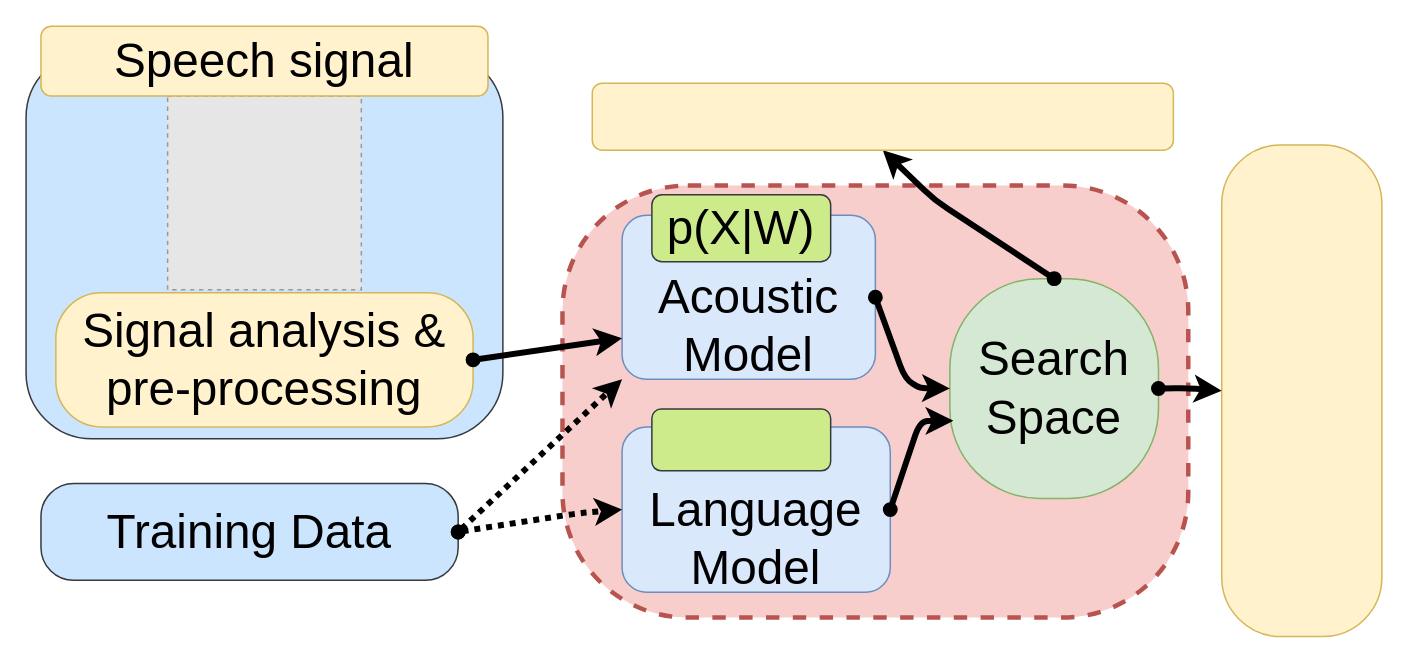
Some shapes in this 1408 by 663 pixel diagram are drawn without their labels. Grey dashed boxes stand in for pictures. Each missing label, with the centre of its shape:
Decoded text (transcript): the point at 882,116
p(W): the point at 740,439
Weighted Finite-State Transducer (WFST): the point at 1301,390
